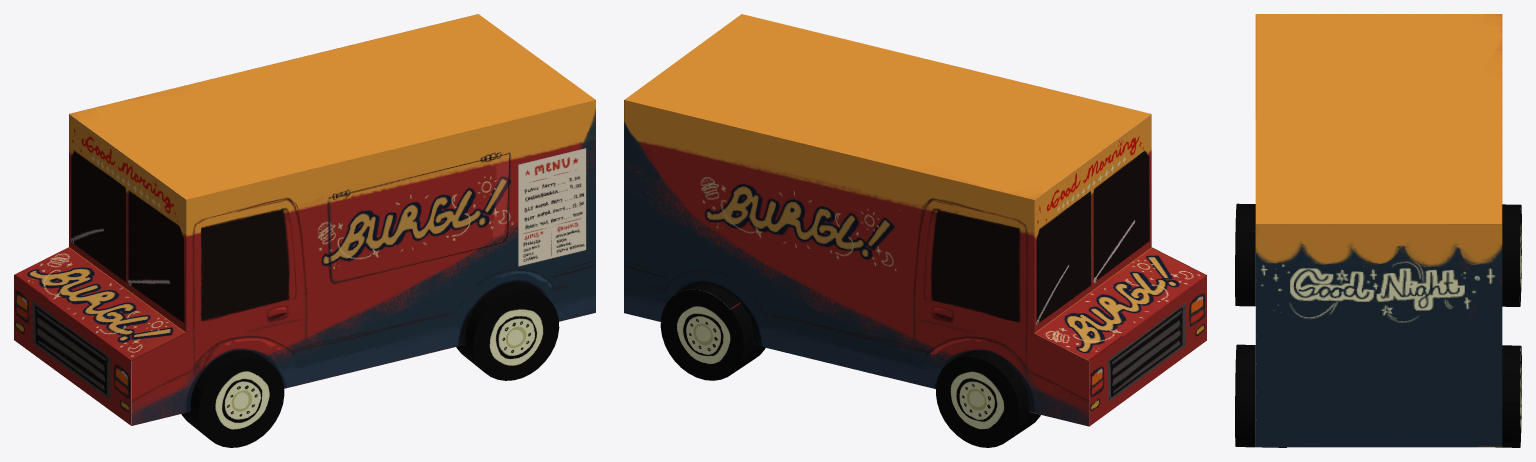
File: BurgerTruckModelFinal.glb
3 renders of one model, left to right at view 1: azimuth 30°, elevation 25°; view 2: azimuth 150°, elevation 25°; view 3: azimuth 270°, elevation 25°, orthographic. The views are drawn at different scales.
Parts seen in each view (by area): view 1: BurgerTruckModel (1); view 2: BurgerTruckModel (1); view 3: BurgerTruckModel (1).
Boxes of the visible parts, bbox=[...] form: BurgerTruckModel (1): bbox=[14, 14, 595, 447]; BurgerTruckModel (1): bbox=[624, 14, 1206, 447]; BurgerTruckModel (1): bbox=[1235, 14, 1521, 447].
Size of the model in its own units: 33.8 by 17.48 by 17.22.
Materials: 1 (1 with a texture image).
